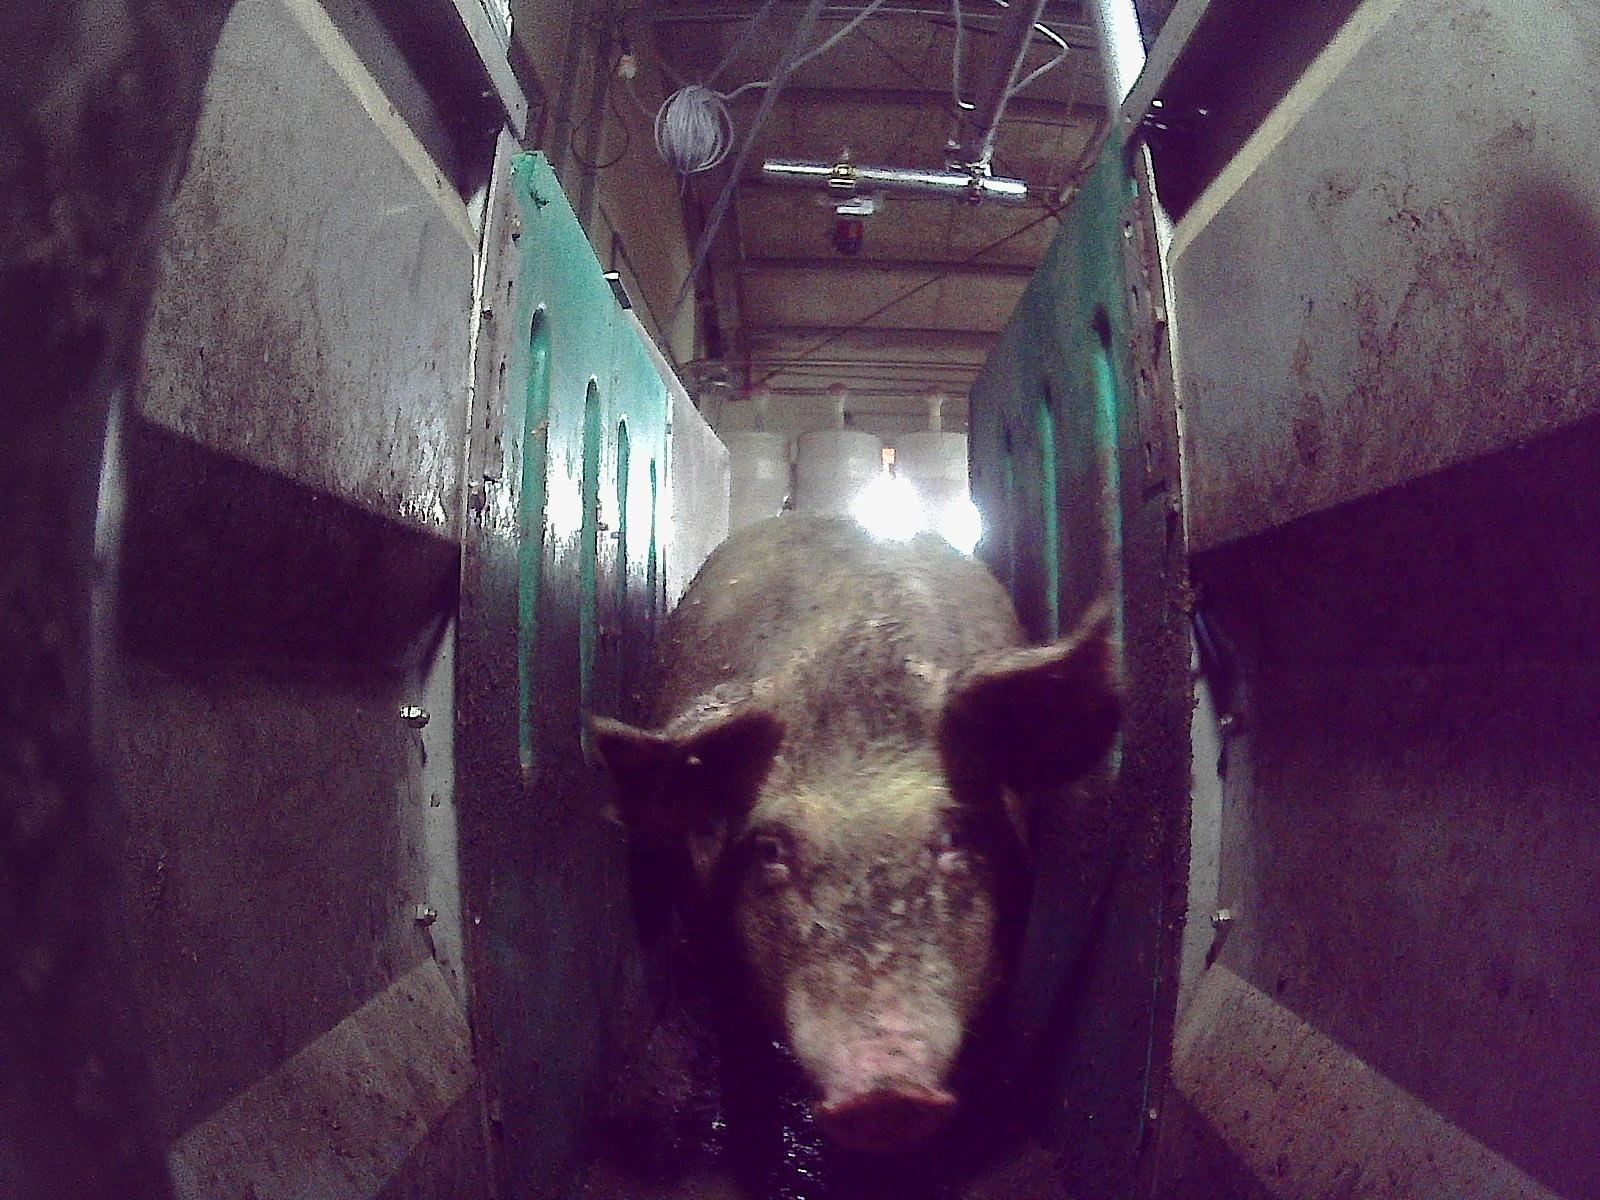Face: (697, 633, 1013, 1154)
